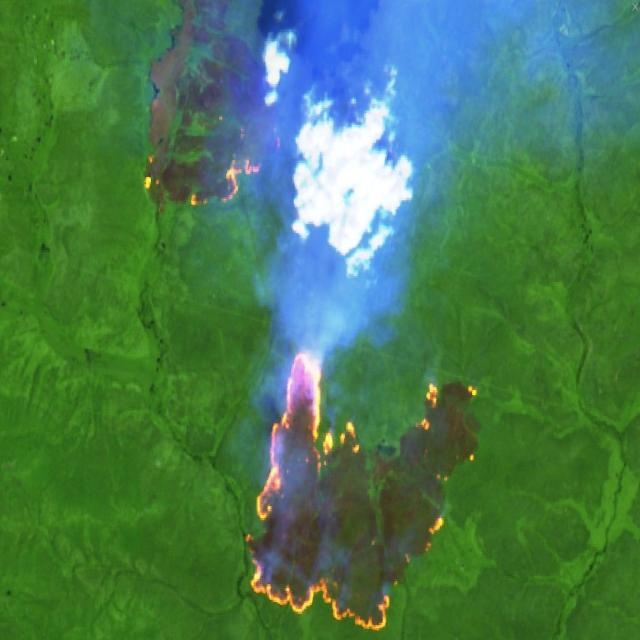fire: (243, 348, 479, 634), (140, 111, 286, 218)
